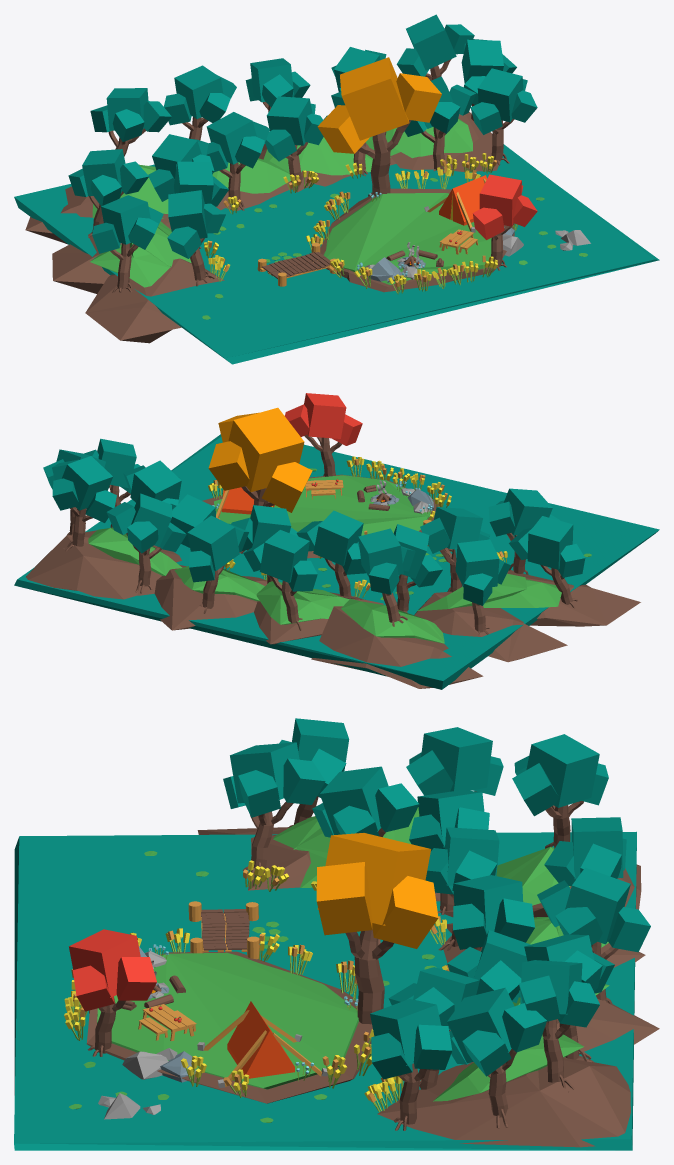
The model's file is SwampIsland-transformed.glb.
The picture shows the model from 3 angles, top to bottom: view 1: azimuth 30°, elevation 25°; view 2: azimuth 150°, elevation 25°; view 3: azimuth 270°, elevation 25°; orthographic projection. The views are drawn at different scales.
Parts seen in each view (by area): view 1: group2136008734, group1996960513, group151683662, group603141852, group1472950353, group1052670248, group760265186, group2099061238, group1420377134, group1774111551, group684750817, group1327080236 (+22 smaller); view 2: group2136008734, group151683662, group1297782163, group1996960513, group880033640, group1242887192, group1004619122, group1776715167, group760265186, group1472950353, group1774111551, group853010250 (+21 smaller); view 3: group2136008734, group1996960513, group151683662, group1297782163, group912524470, group1327080236, group684750817, group1052670248, group1774111551, group761897651, group1458085261, group1004619122 (+24 smaller).
Boxes of the visible parts, box(x1,y1,x2,y2) form: group2136008734: box(14, 143, 659, 364); group1996960513: box(323, 193, 491, 284); group151683662: box(317, 57, 441, 196); group603141852: box(85, 258, 224, 343); group1472950353: box(92, 195, 163, 292); group1052670248: box(470, 68, 537, 165); group760265186: box(163, 65, 236, 140); group2099061238: box(206, 112, 269, 210); group1420377134: box(68, 149, 148, 238); group1774111551: box(472, 174, 537, 270); group684750817: box(90, 88, 171, 156); group1327080236: box(167, 190, 225, 286); group2136008734: box(14, 434, 659, 689); group151683662: box(208, 407, 312, 553); group1297782163: box(26, 530, 181, 599); group1996960513: box(214, 475, 433, 535); group880033640: box(311, 606, 483, 688); group1242887192: box(414, 591, 567, 662); group1004619122: box(52, 456, 116, 551); group1776715167: box(106, 493, 186, 593); group760265186: box(243, 530, 317, 630); group1472950353: box(509, 516, 585, 608); group1774111551: box(285, 393, 362, 476); group853010250: box(154, 565, 267, 630); group2136008734: box(14, 831, 636, 1150); group1996960513: box(97, 952, 358, 1089); group151683662: box(316, 833, 438, 1024); group1297782163: box(377, 1055, 630, 1147); group912524470: box(447, 987, 546, 1128); group1327080236: box(223, 742, 325, 877); group684750817: box(512, 734, 608, 848); group1052670248: box(370, 999, 452, 1130); group1774111551: box(69, 929, 156, 1056); group761897651: box(537, 867, 650, 1004); group1458085261: box(312, 766, 419, 837); group1004619122: box(519, 960, 599, 1092).
Size of the model in its own units: 4.24 by 1.43 by 3.31.
